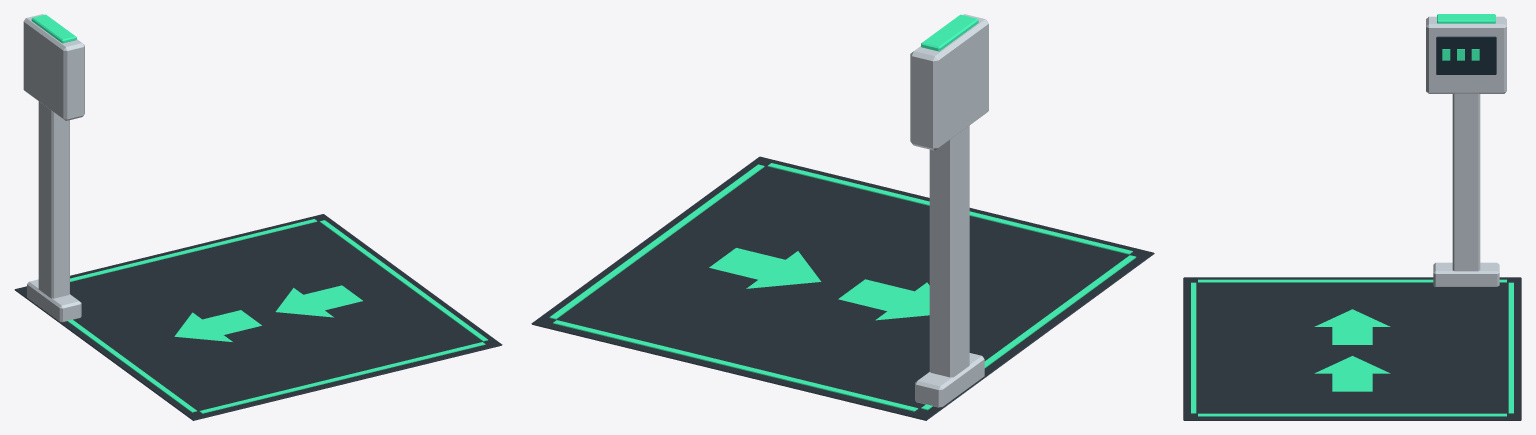
File: dropoff.glb
The picture shows the model from 3 angles, left to right: view 1: azimuth 30°, elevation 25°; view 2: azimuth 150°, elevation 25°; view 3: azimuth 270°, elevation 25°; orthographic projection. The views are drawn at different scales.
Parts seen in each view (by area): view 1: Dropoff_Geometry; view 2: Dropoff_Geometry; view 3: Dropoff_Geometry.
Boxes of the visible parts, left/top/right/bottom form: Dropoff_Geometry: left=14, top=14, right=502, bottom=420; Dropoff_Geometry: left=531, top=14, right=1154, bottom=420; Dropoff_Geometry: left=1183, top=14, right=1521, bottom=420.
Bounding box in the file's own units: 0.92 × 0.8 × 0.92.
